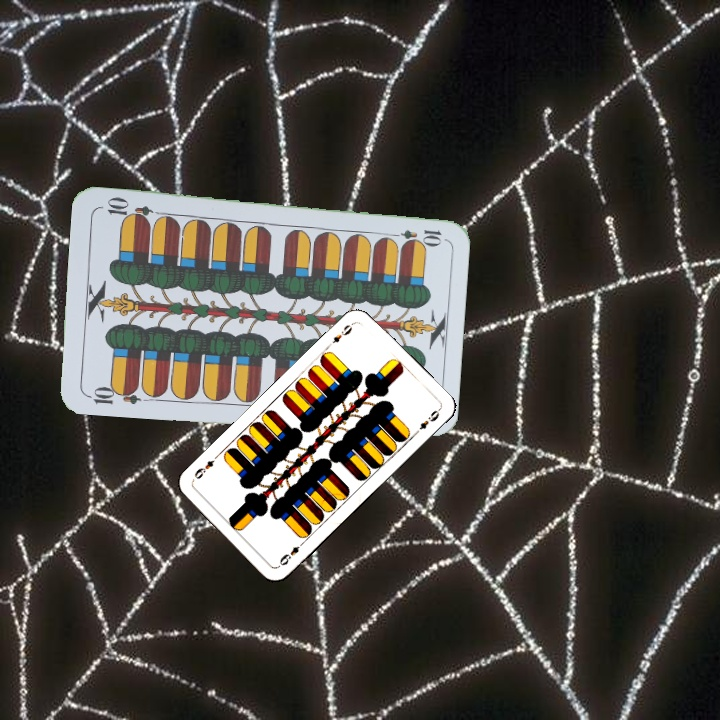E10: (83, 381, 142, 407), (385, 225, 444, 245)
E9: (275, 537, 307, 568), (328, 318, 357, 346)
